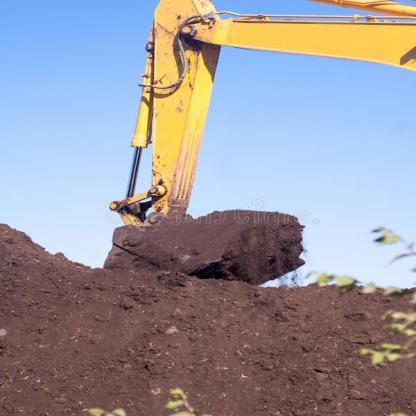excavator: (95, 3, 415, 291)
